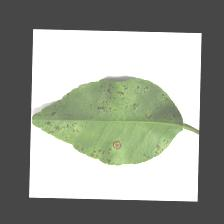canker: (38, 82, 142, 168)
